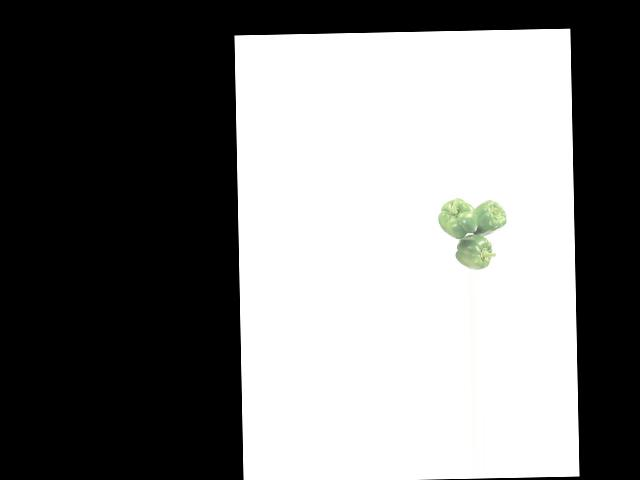bell_pepper: (434, 194, 479, 239)
